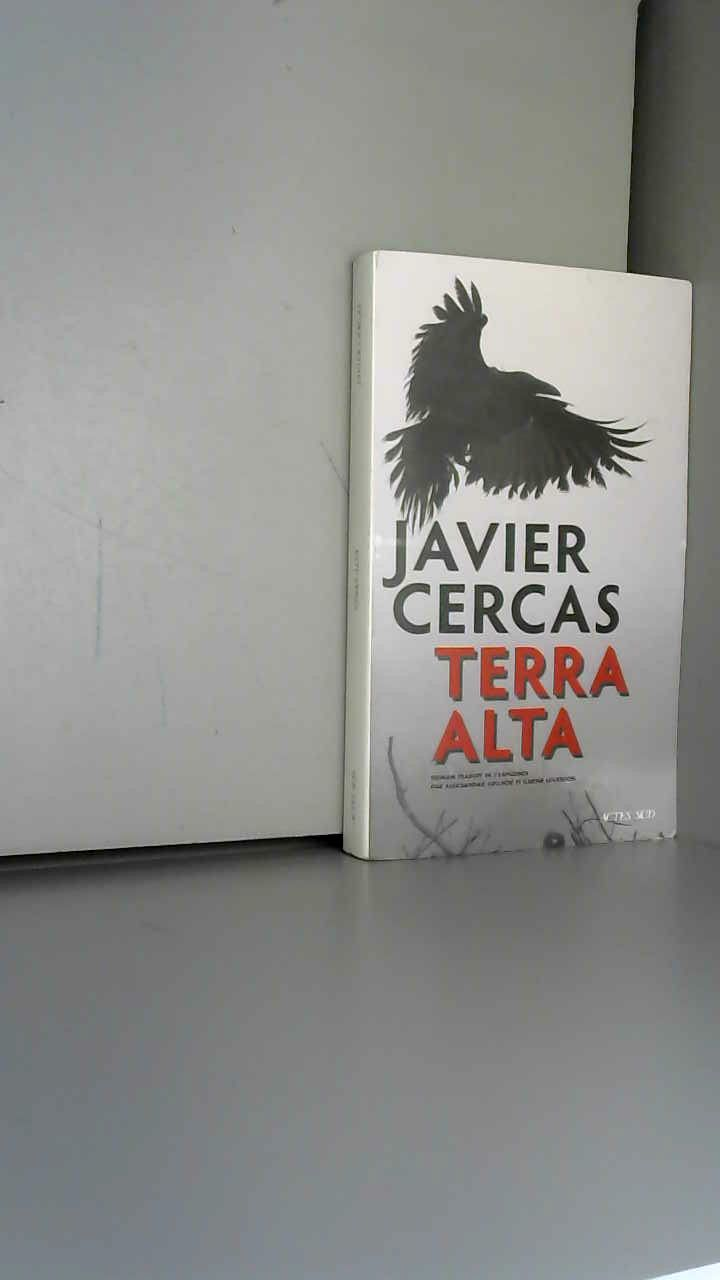book: (340, 220, 720, 906)
